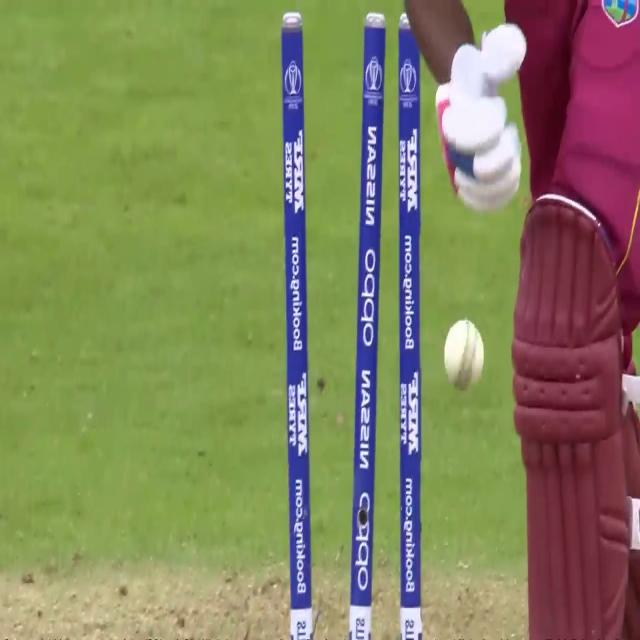ball: (438, 310, 488, 404)
